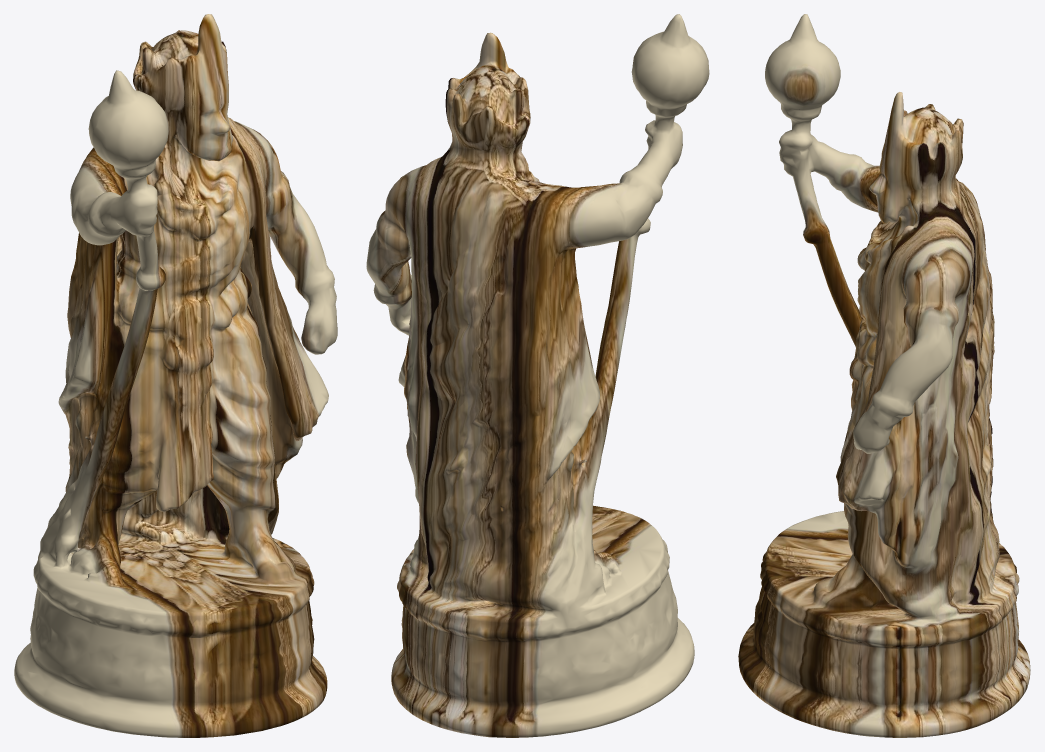
Rendered from raja.glb.
3 renders of one model, left to right at view 1: azimuth 30°, elevation 25°; view 2: azimuth 150°, elevation 25°; view 3: azimuth 270°, elevation 25°, orthographic. The views are drawn at different scales.
Parts seen in each view (by area): view 1: geometry_0; view 2: geometry_0; view 3: geometry_0.
Part boxes in pixels (<box>): geometry_0: <box>14,14,337,737</box>; geometry_0: <box>366,14,709,737</box>; geometry_0: <box>738,14,1030,737</box>.
Size of the model in its own units: 0.9382 by 2.04 by 0.8642.
Materials: 1 (1 with a texture image).
